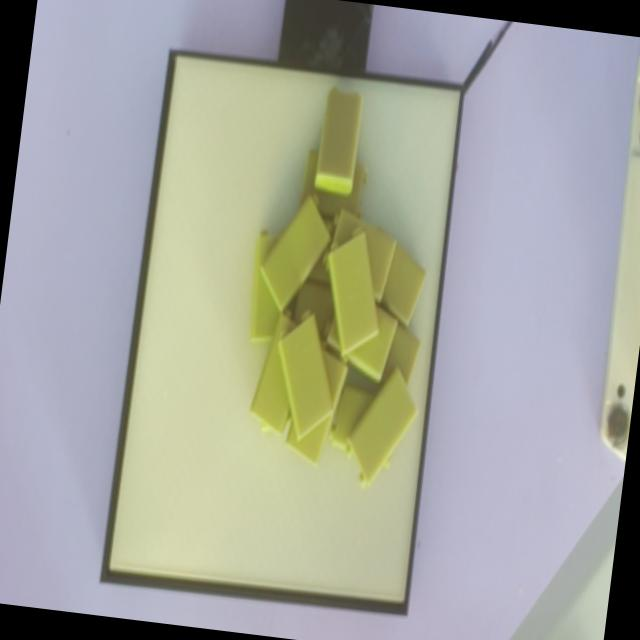bateria: (345, 362, 419, 487), (259, 192, 332, 312), (277, 308, 334, 440), (327, 224, 379, 355)
mesa: (99, 45, 465, 617)
